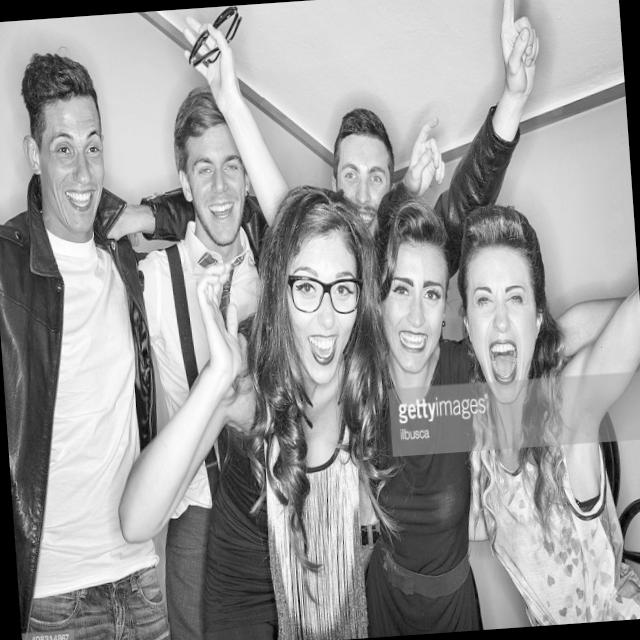person: (0, 58, 310, 640), (438, 163, 640, 627), (251, 180, 396, 640), (370, 187, 487, 626), (160, 68, 254, 312), (320, 90, 394, 251)
